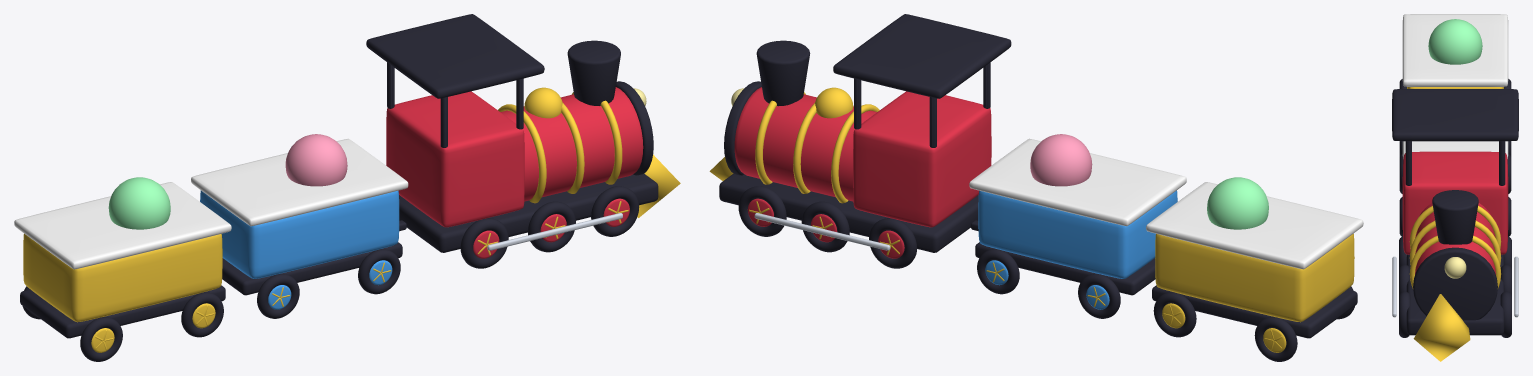
Rendered from train.glb.
3 views of the same model, side by side, from view 1: azimuth 30°, elevation 25°; view 2: azimuth 150°, elevation 25°; view 3: azimuth 270°, elevation 25° (orthographic). The views are drawn at different scales.
Visible parts, largest first — view 1: cab, car1, car0, cab_roof, car1_rim, car0_rim, boiler, frame, chimney, cargo0, cargo1, car1_base (+15 smaller); view 2: cab, car1, car0, cab_roof, car1_rim, car0_rim, boiler, frame, chimney, cargo0, cargo1, car1_base (+14 smaller); view 3: cab_roof, cab, car1_rim, boiler_front, chimney, cowcatcher, cargo1, frame, boiler, car0_rim, band1.25, band0.8 (+17 smaller).
Boxes of the visible parts, left/top/right/bottom form: cab: left=386, top=91, right=524, bottom=227; car1: left=23, top=233, right=222, bottom=322; car0: left=200, top=190, right=399, bottom=278; cab_roof: left=366, top=14, right=544, bottom=98; car1_rim: left=14, top=182, right=231, bottom=269; car0_rim: left=191, top=138, right=408, bottom=226; boiler: left=500, top=87, right=643, bottom=201; frame: left=399, top=173, right=658, bottom=252; chimney: left=567, top=40, right=620, bottom=105; cargo0: left=285, top=134, right=347, bottom=186; cargo1: left=108, top=177, right=170, bottom=229; car1_base: left=20, top=285, right=225, bottom=338; cab: left=853, top=91, right=991, bottom=227; car1: left=1155, top=234, right=1354, bottom=322; car0: left=978, top=190, right=1177, bottom=278; cab_roof: left=833, top=14, right=1011, bottom=98; car1_rim: left=1146, top=182, right=1363, bottom=269; car0_rim: left=969, top=138, right=1186, bottom=226; boiler: left=734, top=87, right=876, bottom=201; frame: left=719, top=173, right=978, bottom=252; chimney: left=756, top=40, right=810, bottom=106; cargo0: left=1030, top=134, right=1092, bottom=186; cargo1: left=1207, top=177, right=1268, bottom=229; car1_base: left=1152, top=285, right=1357, bottom=338; cab_roof: left=1392, top=89, right=1518, bottom=141; cab: left=1402, top=151, right=1508, bottom=254; car1_rim: left=1402, top=14, right=1508, bottom=86; boiler_front: left=1413, top=247, right=1497, bottom=320; chimney: left=1432, top=190, right=1478, bottom=244; cowcatcher: left=1413, top=294, right=1470, bottom=361; cargo1: left=1428, top=19, right=1482, bottom=64; frame: left=1406, top=254, right=1504, bottom=335; boiler: left=1415, top=203, right=1495, bottom=274; car0_rim: left=1402, top=141, right=1508, bottom=158; band1.25: left=1409, top=235, right=1501, bottom=288; band0.8: left=1409, top=220, right=1501, bottom=265.
Bounding box in the file's own units: 7.33 × 2.31 × 1.5.
